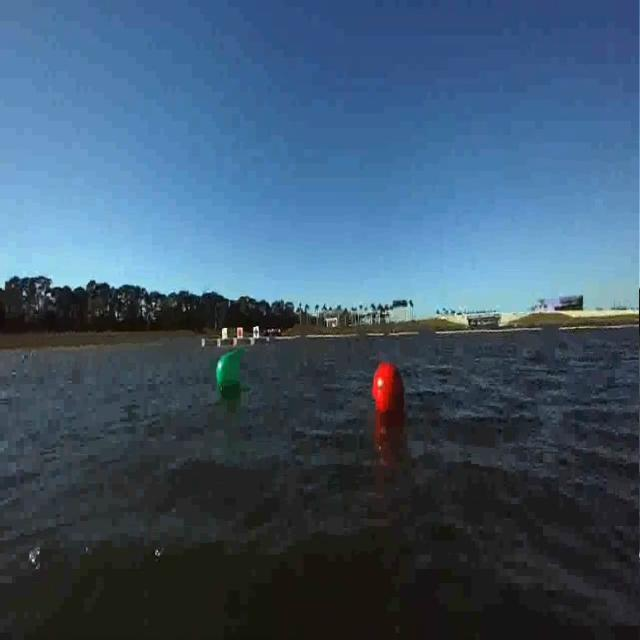green-buoy: (213, 350, 242, 392)
red-buoy: (372, 360, 408, 416)
